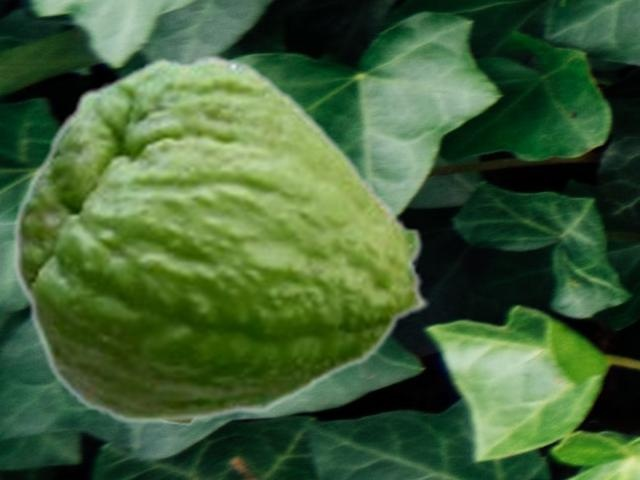sayote: (12, 53, 431, 425)
